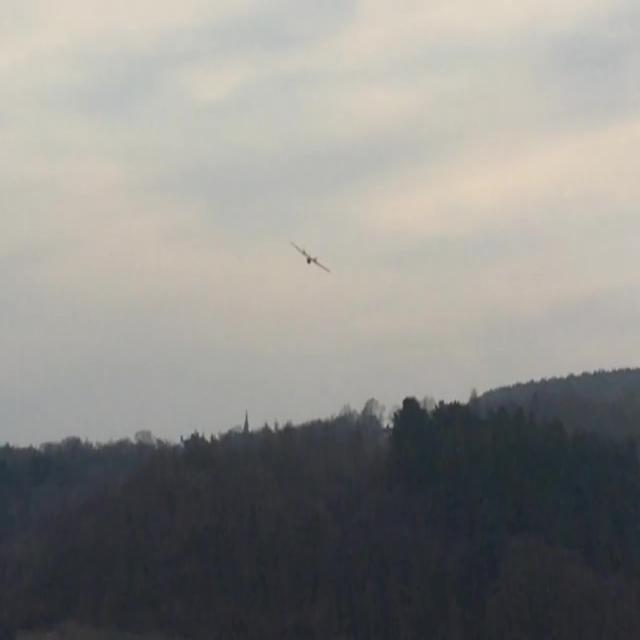iha: (289, 240, 332, 275)
